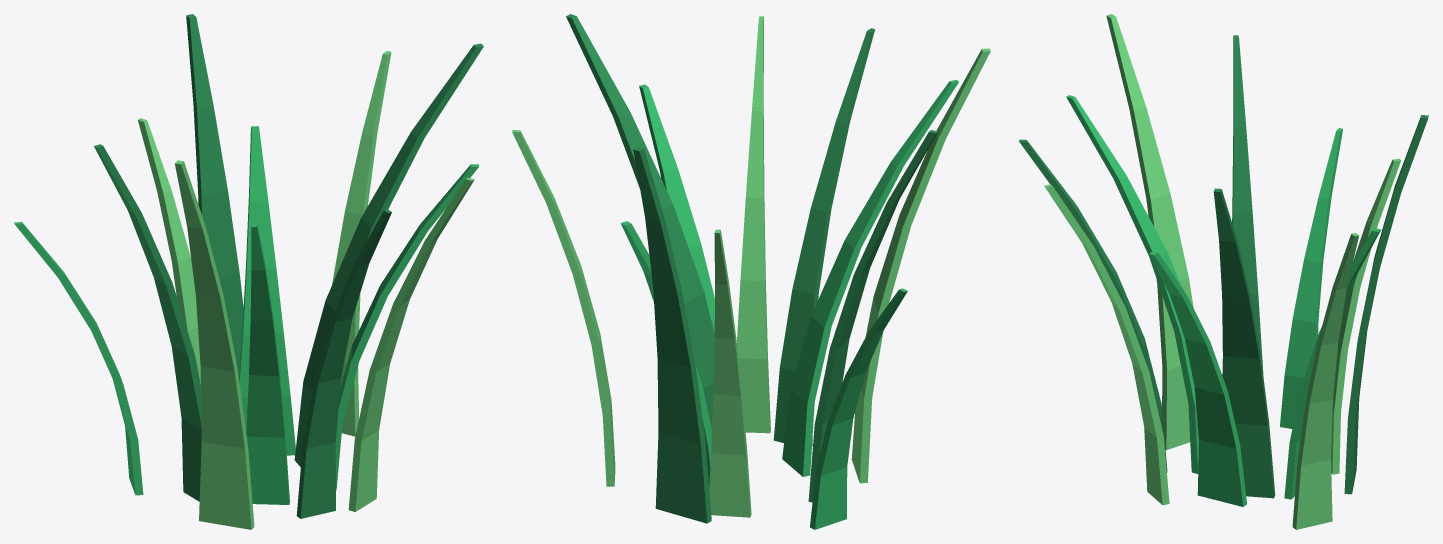
Rendered from FTF_Nature_WaterGrass_Clump.glb.
The picture shows the model from 3 angles, left to right: view 1: azimuth 30°, elevation 25°; view 2: azimuth 150°, elevation 25°; view 3: azimuth 270°, elevation 25°; orthographic projection. The views are drawn at different scales.
Parts seen in each view (by area): view 1: WaterGrass_Leaf_08, WaterGrass_Leaf_07, WaterGrass_Leaf_06, WaterGrass_Leaf_00, WaterGrass_Leaf_09, WaterGrass_Leaf_05, WaterGrass_Leaf_03, WaterGrass_Leaf_01, WaterGrass_Leaf_02, WaterGrass_Leaf_11, WaterGrass_Leaf_04, WaterGrass_Leaf_10; view 2: WaterGrass_Leaf_00, WaterGrass_Leaf_07, WaterGrass_Leaf_05, WaterGrass_Leaf_11, WaterGrass_Leaf_06, WaterGrass_Leaf_03, WaterGrass_Leaf_08, WaterGrass_Leaf_10, WaterGrass_Leaf_09, WaterGrass_Leaf_02, WaterGrass_Leaf_04, WaterGrass_Leaf_01; view 3: WaterGrass_Leaf_03, WaterGrass_Leaf_08, WaterGrass_Leaf_04, WaterGrass_Leaf_02, WaterGrass_Leaf_10, WaterGrass_Leaf_05, WaterGrass_Leaf_07, WaterGrass_Leaf_09, WaterGrass_Leaf_00, WaterGrass_Leaf_11, WaterGrass_Leaf_06, WaterGrass_Leaf_01.
Part boxes in pixels (box(x1,y1,x2,y2)): WaterGrass_Leaf_08: box(175, 160, 254, 529); WaterGrass_Leaf_07: box(246, 223, 289, 504); WaterGrass_Leaf_06: box(296, 209, 391, 518); WaterGrass_Leaf_00: box(186, 14, 243, 376); WaterGrass_Leaf_09: box(94, 144, 201, 501); WaterGrass_Leaf_05: box(348, 177, 474, 511); WaterGrass_Leaf_03: box(294, 43, 483, 467); WaterGrass_Leaf_01: box(239, 126, 295, 455); WaterGrass_Leaf_02: box(332, 51, 391, 436); WaterGrass_Leaf_11: box(138, 118, 200, 384); WaterGrass_Leaf_04: box(335, 164, 478, 490); WaterGrass_Leaf_10: box(14, 222, 143, 495); WaterGrass_Leaf_00: box(633, 147, 711, 523); WaterGrass_Leaf_07: box(782, 79, 958, 476); WaterGrass_Leaf_05: box(737, 16, 770, 433); WaterGrass_Leaf_11: box(709, 229, 751, 517); WaterGrass_Leaf_06: box(773, 28, 874, 446); WaterGrass_Leaf_03: box(566, 14, 714, 429); WaterGrass_Leaf_08: box(851, 48, 990, 483); WaterGrass_Leaf_10: box(810, 288, 907, 529); WaterGrass_Leaf_09: box(808, 130, 938, 502); WaterGrass_Leaf_02: box(512, 130, 615, 486); WaterGrass_Leaf_04: box(639, 84, 714, 333); WaterGrass_Leaf_01: box(620, 221, 711, 487); WaterGrass_Leaf_03: box(1213, 188, 1275, 498); WaterGrass_Leaf_08: box(1106, 14, 1193, 449); WaterGrass_Leaf_04: box(1149, 251, 1246, 506); WaterGrass_Leaf_02: box(1292, 233, 1359, 529); WaterGrass_Leaf_10: box(1280, 128, 1342, 428); WaterGrass_Leaf_05: box(1044, 184, 1169, 505); WaterGrass_Leaf_07: box(1066, 95, 1198, 473); WaterGrass_Leaf_09: box(1232, 35, 1263, 374); WaterGrass_Leaf_00: box(1344, 115, 1428, 494); WaterGrass_Leaf_11: box(1331, 158, 1400, 474); WaterGrass_Leaf_06: box(1019, 139, 1167, 472); WaterGrass_Leaf_01: box(1284, 228, 1381, 499).
Bounding box in the file's own units: 0.69 × 0.6723 × 0.6464.
